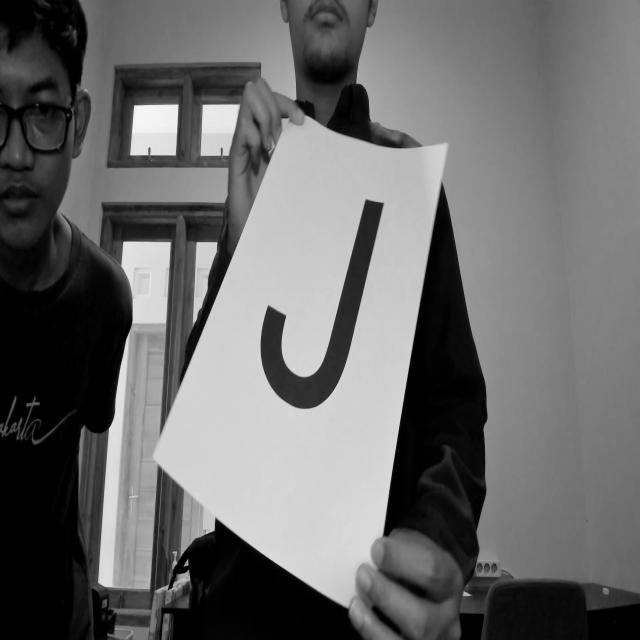j: (258, 166, 394, 433)
